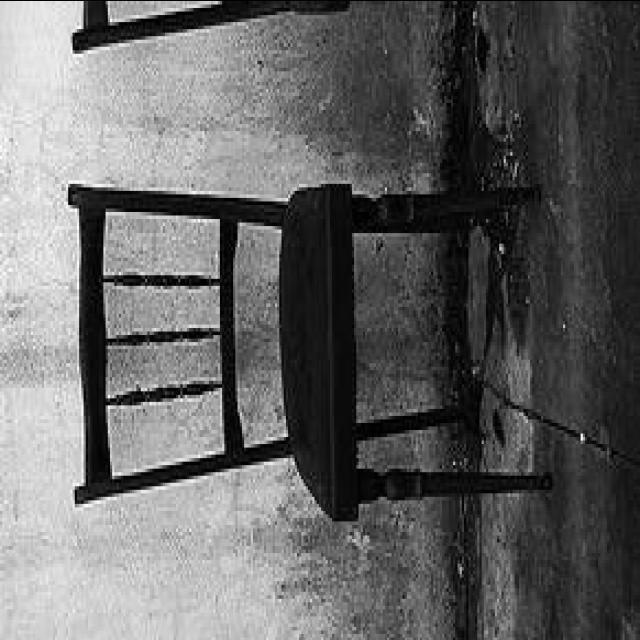chair: (66, 168, 556, 528)
